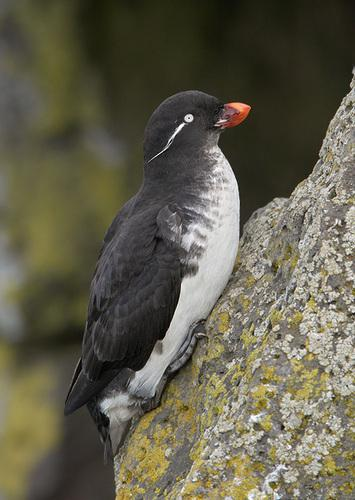007.Parakeet_Auklet: (59, 88, 256, 463)
